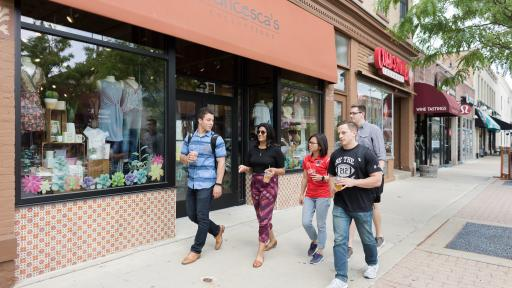person: (329, 120, 381, 283), (179, 106, 227, 264), (240, 123, 285, 268), (299, 133, 332, 265)
